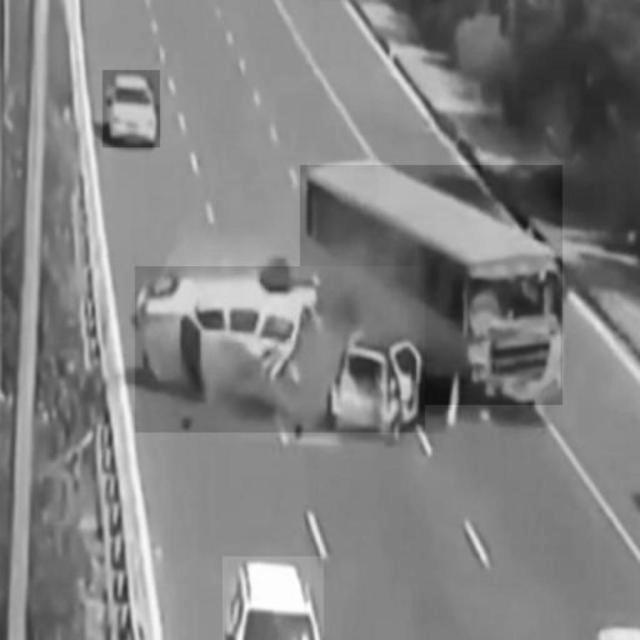accident: (135, 266, 425, 432), (223, 557, 324, 640)
vehicle: (300, 166, 563, 406), (102, 71, 160, 148)
